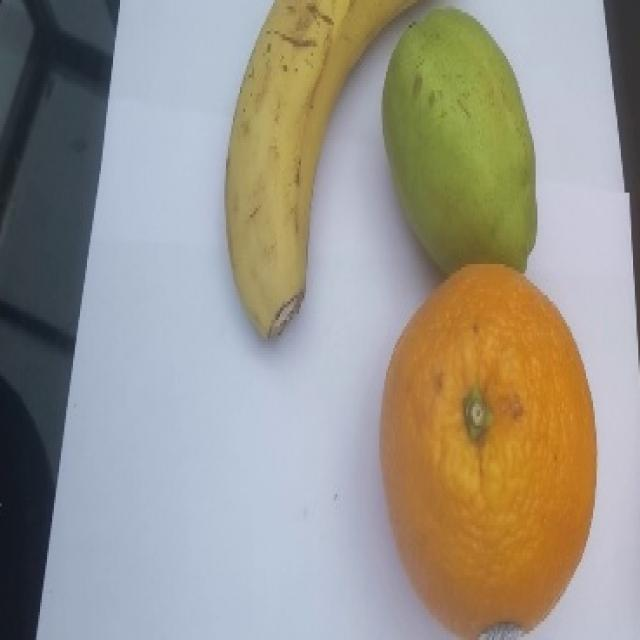Banana: (224, 0, 423, 340)
Orange: (378, 262, 598, 638)
